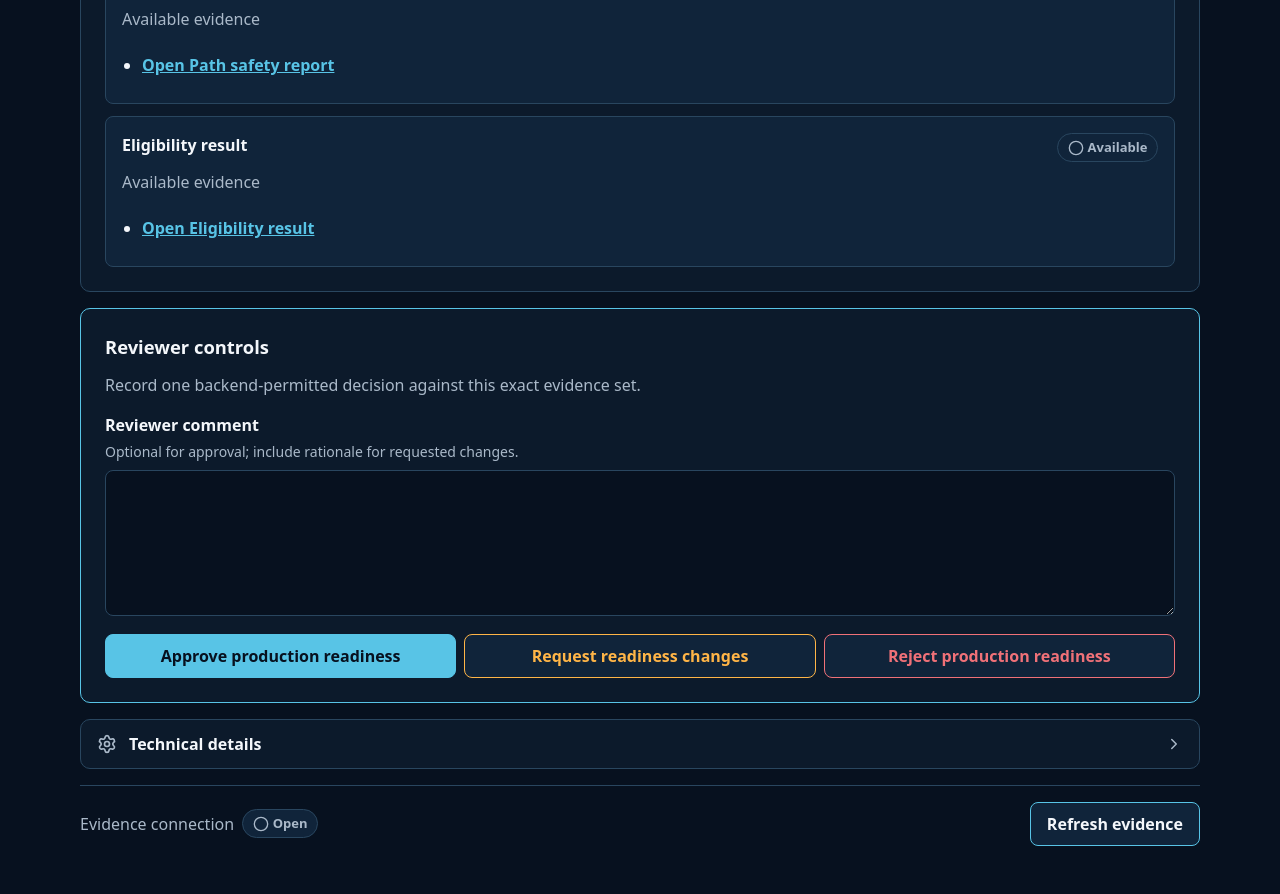
Test: G01ReviewPanel › renders a successful approval response as terminal and retains its exact outcome comment
(page scrolled)
Type "Evidence accepted." into the text box labelled "Reviewer comment" at coordinates (640, 543), box [105, 470, 1175, 616]
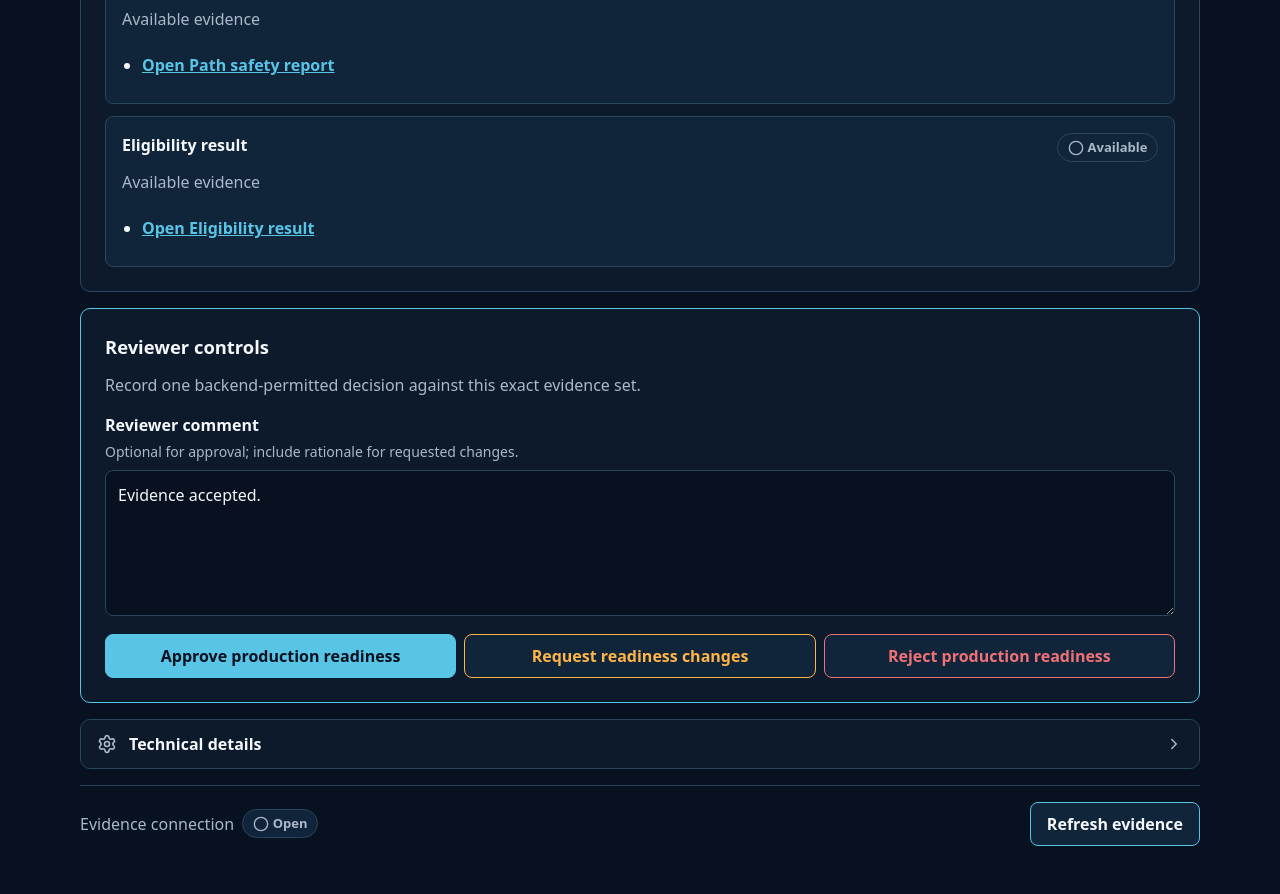
Click the button "Approve production readiness" at coordinates (281, 656), box [105, 634, 456, 678]
(page scrolled)
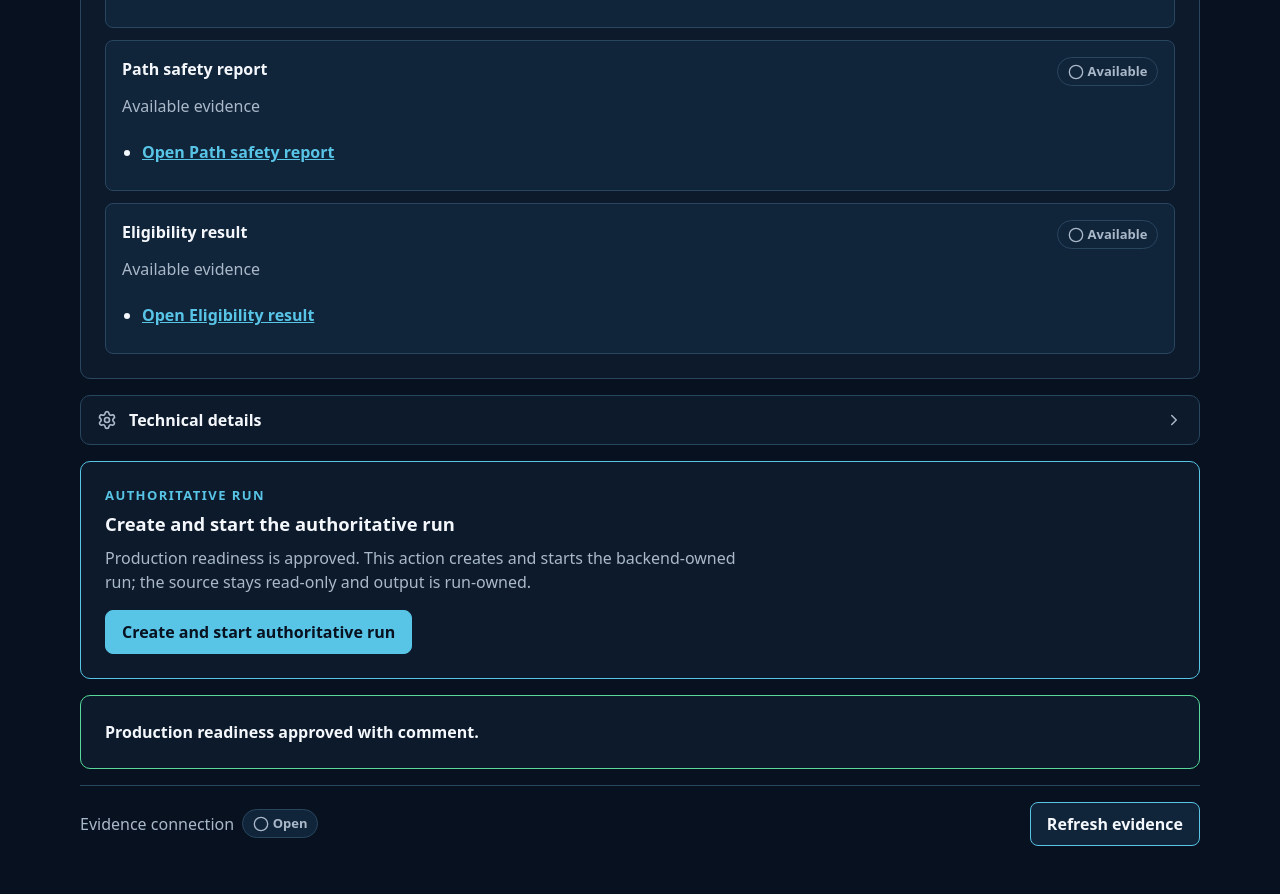
Now the button "Approve production readiness" is gone
Now the button "Request readiness changes" is gone
Now the button "Reject production readiness" is gone
